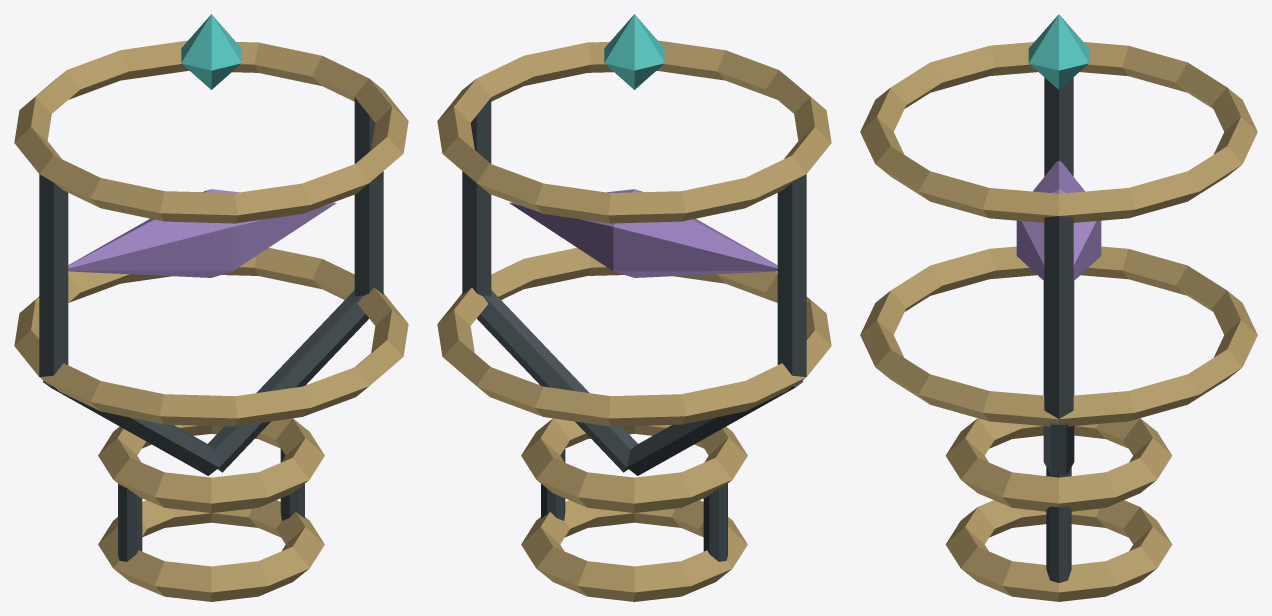
File: Equip_QuietHalo.fbx
3 views of the same model, side by side, from view 1: azimuth 30°, elevation 25°; view 2: azimuth 150°, elevation 25°; view 3: azimuth 270°, elevation 25° (orthographic).
Parts seen in each view (by area): view 1: Equip_QuietHalo; view 2: Equip_QuietHalo; view 3: Equip_QuietHalo.
Part boxes in pixels (x1,y1,x2,y2): Equip_QuietHalo: [14, 14, 408, 601]; Equip_QuietHalo: [437, 14, 831, 601]; Equip_QuietHalo: [860, 14, 1257, 601].
Size of the model in its own units: 0.284 by 0.432 by 0.284.
